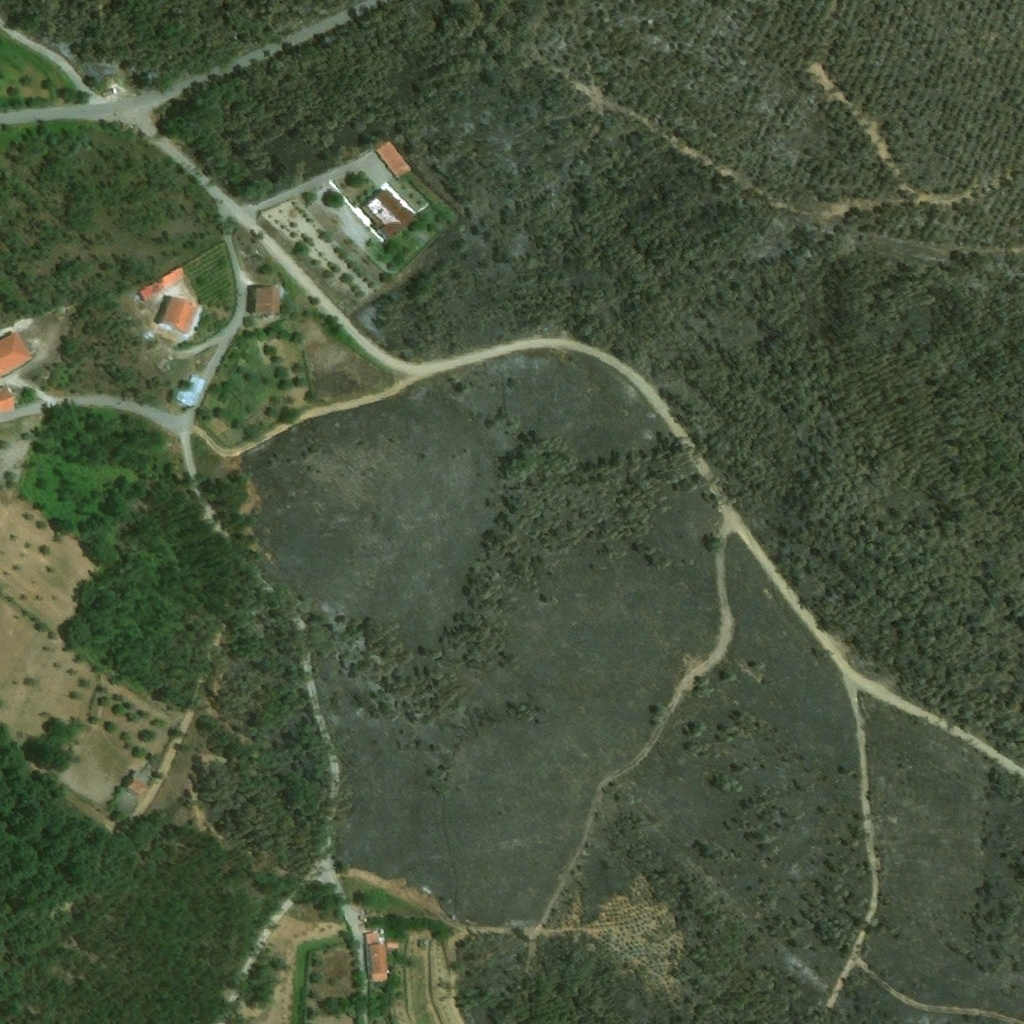0 no-damage: (365, 182, 417, 240), (140, 265, 187, 300), (159, 296, 198, 334), (375, 139, 411, 177), (0, 332, 32, 373), (366, 932, 387, 980), (175, 374, 204, 407), (255, 285, 281, 315), (128, 776, 149, 796), (0, 387, 14, 412)
